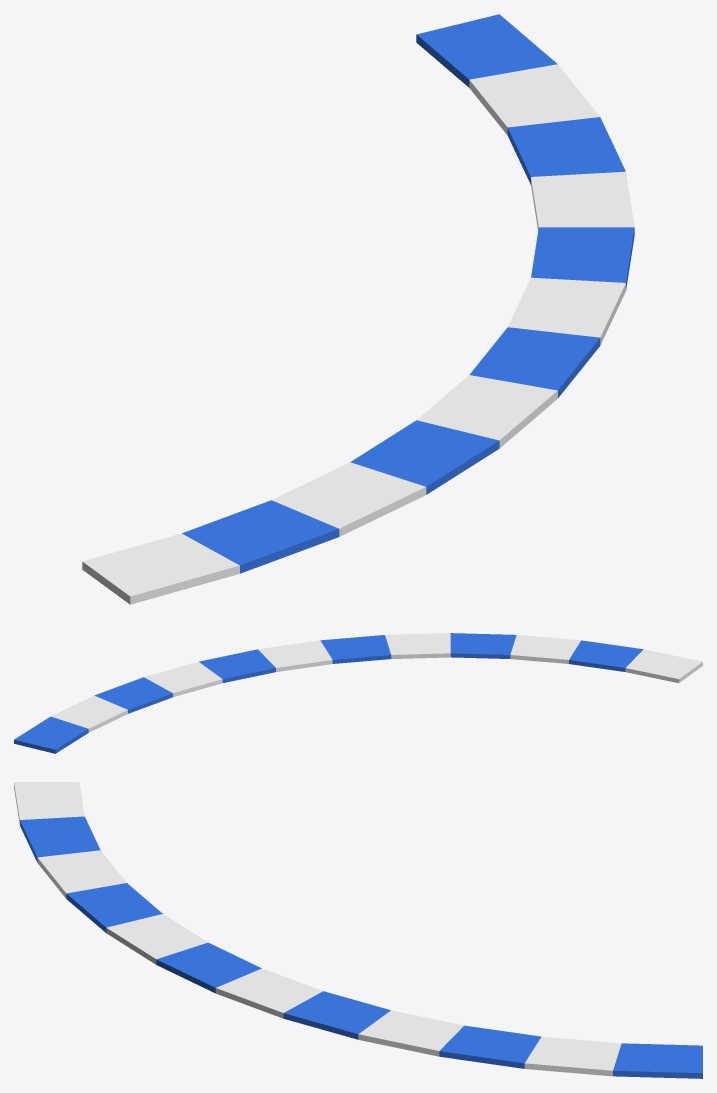
The model's file is roadCornerLargeBorderBlue.fbx.
The picture shows the model from 3 angles, top to bottom: view 1: azimuth 30°, elevation 25°; view 2: azimuth 150°, elevation 25°; view 3: azimuth 270°, elevation 25°; orthographic projection. The views are drawn at different scales.
Parts seen in each view (by area): view 1: roadCornerLargeBorder; view 2: roadCornerLargeBorder; view 3: roadCornerLargeBorder.
Part boxes in pixels (bbox=[...]): roadCornerLargeBorder: bbox=[82, 14, 634, 604]; roadCornerLargeBorder: bbox=[14, 633, 702, 753]; roadCornerLargeBorder: bbox=[14, 782, 702, 1078].
Size of the model in its own units: 2210 by 20 by 2210.
